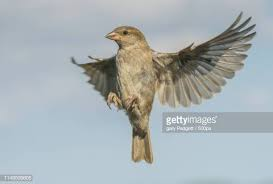hsparrow: (69, 9, 259, 166)
